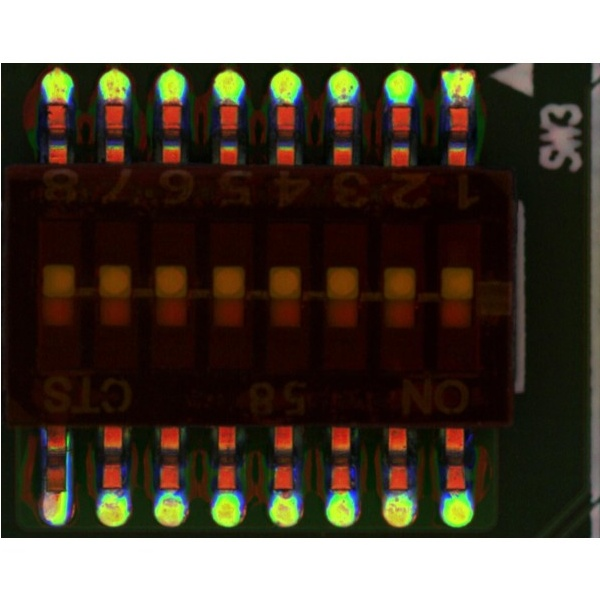Bad_podu: (46, 481, 62, 503)
Bad_qiaojiao: (63, 432, 71, 489)
